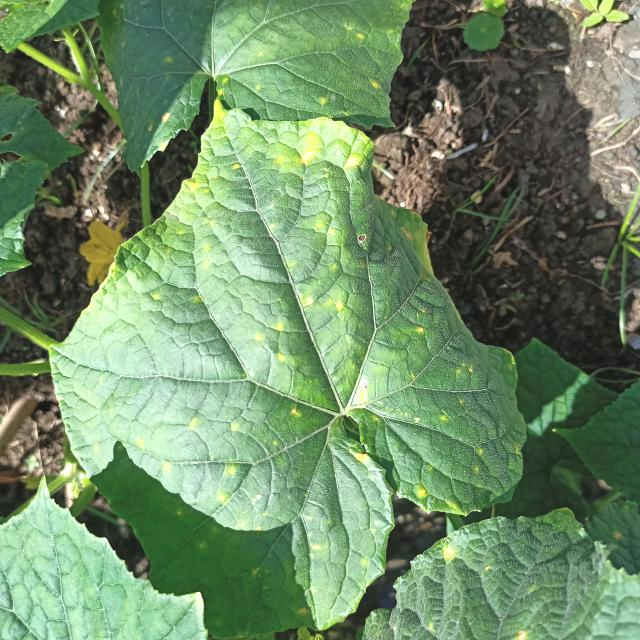disease_cucumber: (126, 405, 318, 564), (256, 120, 382, 316), (254, 316, 295, 368)
